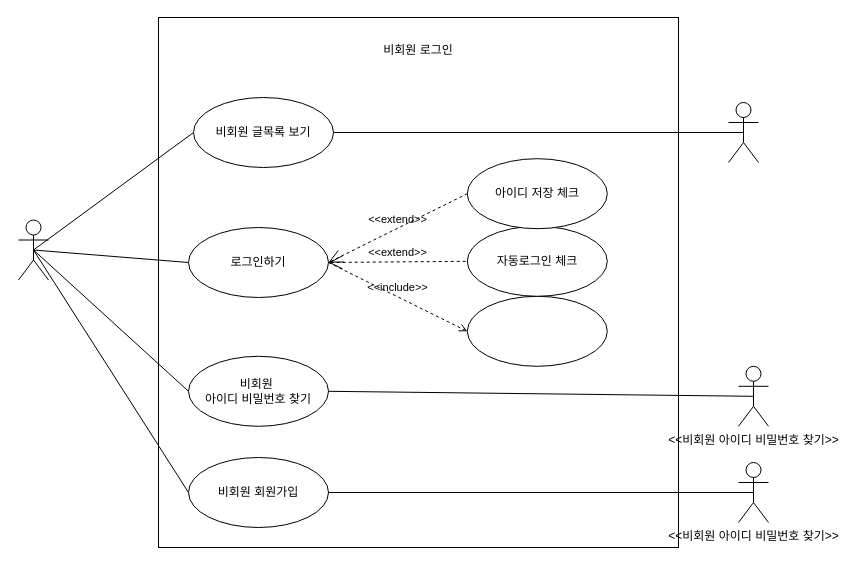
Some shapes in this 856 by 565 pixel diagram are drawn without their labels. Here are the shapes that lost their labels. From the top down, the centre of each, then its label:
At (743,132): "<<비회원 글목록 보기>>".
At (33,249): "비회원".
At (536,330): "아이디 비밀번호 입력".
